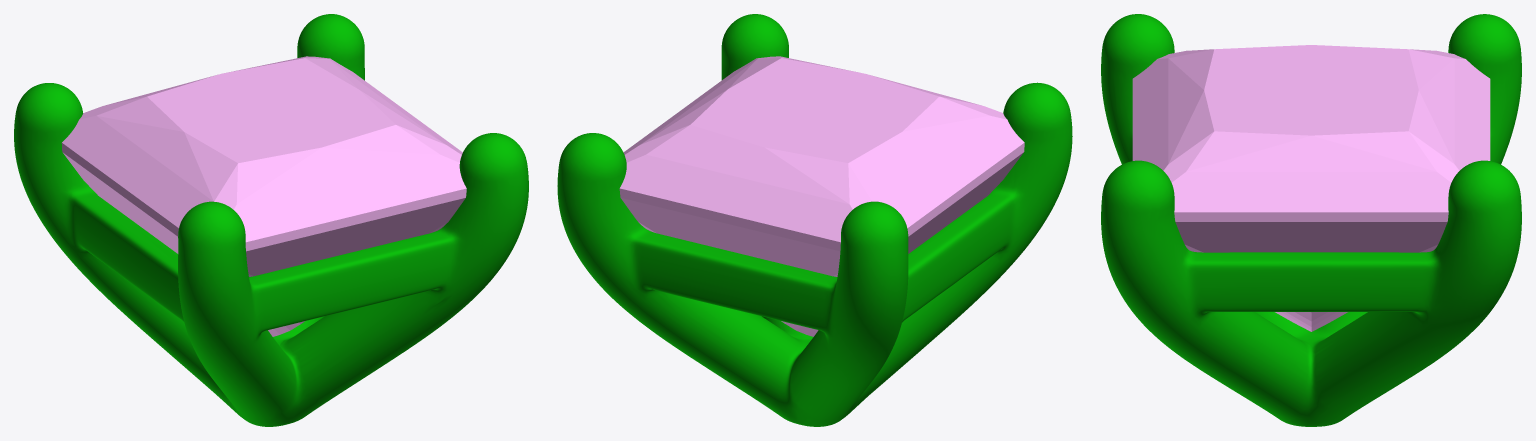
3 renders of one model, left to right at view 1: azimuth 30°, elevation 25°; view 2: azimuth 150°, elevation 25°; view 3: azimuth 270°, elevation 25°, orthographic. The views are drawn at different scales.
Visible parts, largest first — view 1: Metal01, Diamond_Princess; view 2: Metal01, Diamond_Princess; view 3: Metal01, Diamond_Princess.
Boxes of the visible parts, bbox=[...] form: Metal01: bbox=[14, 14, 528, 426]; Diamond_Princess: bbox=[61, 56, 466, 336]; Metal01: bbox=[557, 14, 1072, 426]; Diamond_Princess: bbox=[619, 56, 1024, 336]; Metal01: bbox=[1101, 14, 1521, 426]; Diamond_Princess: bbox=[1132, 45, 1490, 331].
Bounding box in the file's own units: 6.46 × 5.5 × 6.47.
